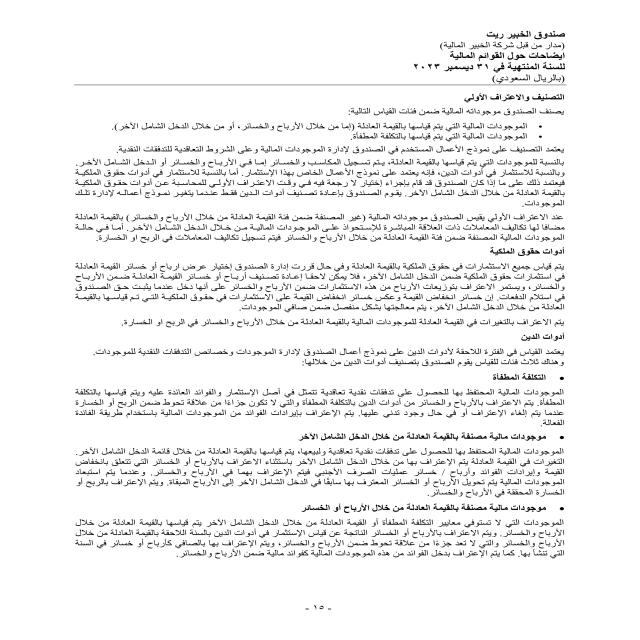notes: (446, 52, 570, 62)
text: (47, 91, 578, 570)
